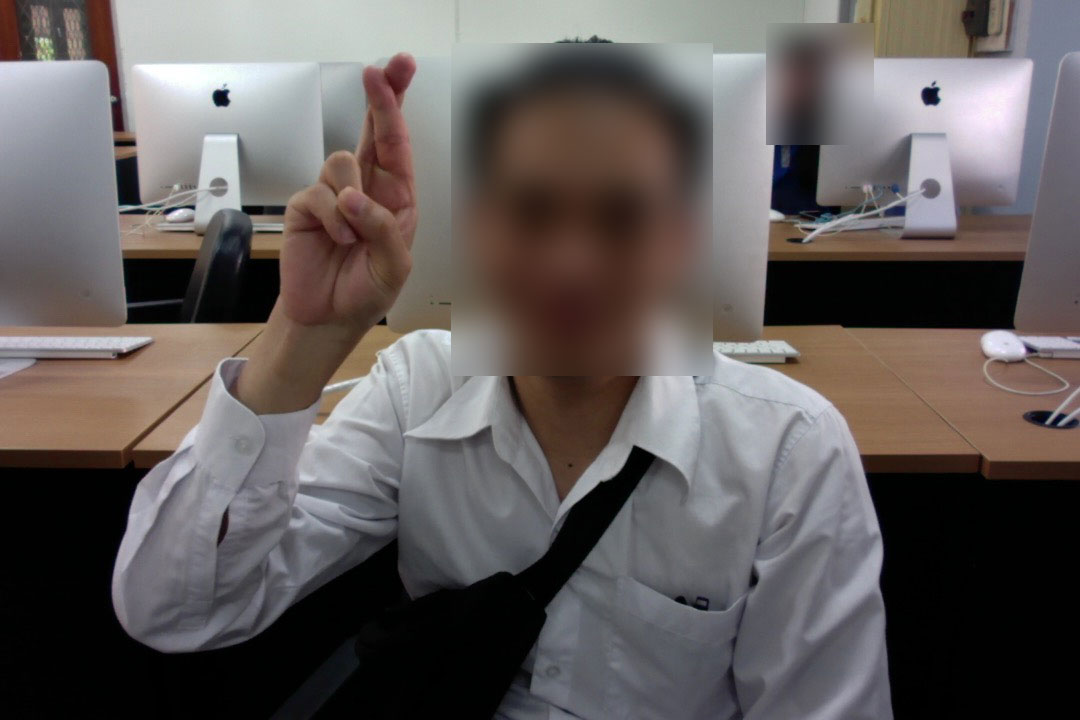rao: (273, 41, 435, 326)
